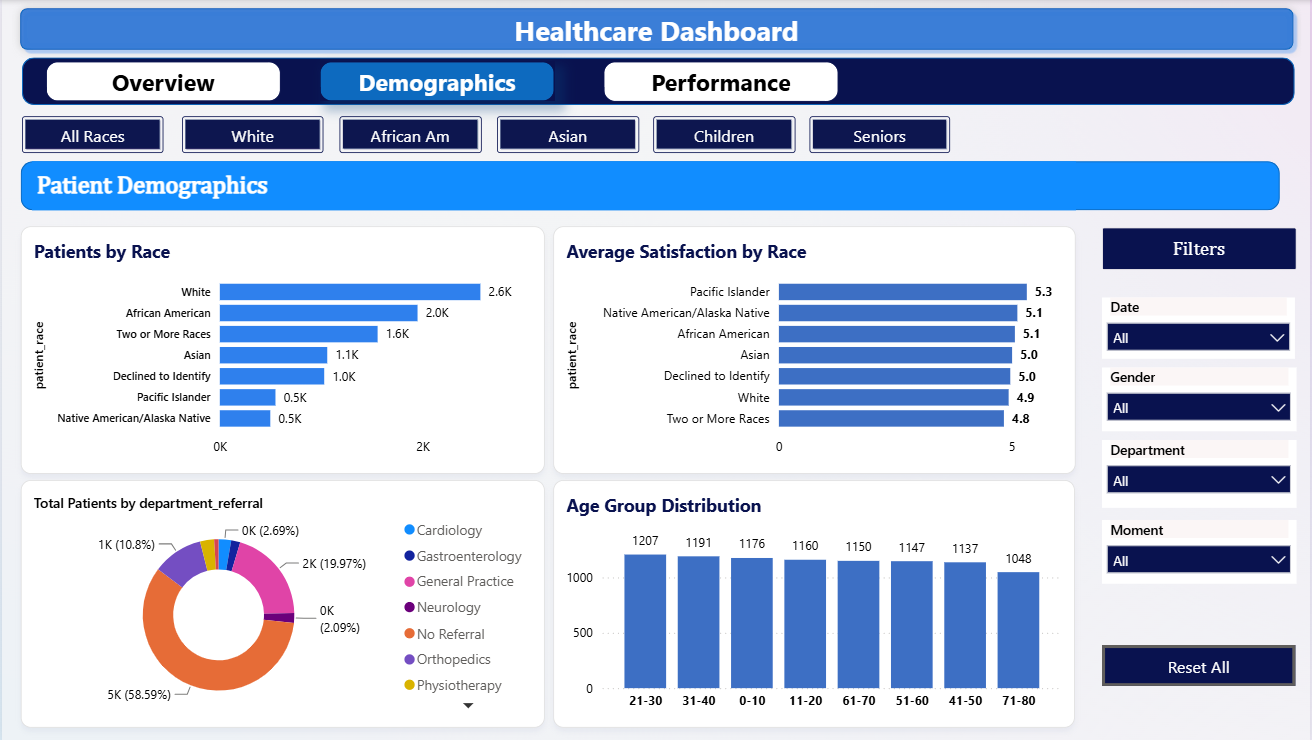

This screenshot's page, from the dashboard's own definition file:
{"tool":"powerbi","page":{"name":"Page 2 Demographics","canvas":[1280,730],"ordinal":1},"visuals":[{"type":"shape","box":[9.7,0,1261.9,56.7],"z":0},{"type":"textbox","box":[120.6,6,1038.7,47.1],"z":1000},{"type":"shape","box":[19.3,56.7,1076.1,45.8],"z":2000},{"type":"actionButton","box":[43.1,60.3,230.2,39.4],"z":3000},{"type":"actionButton","box":[310.2,60.3,230.2,39.4],"z":4000},{"type":"actionButton","box":[588.7,60.3,230.4,39.8],"z":5000},{"type":"shape","box":[1063,205.9,208.7,514.8],"z":6000},{"type":"slicer","fields":{"Values":["Sheet1.Date"]},"box":[1076.2,291.2,188.8,60],"z":7000},{"type":"slicer","fields":{"Values":["Sheet1.patient_gender"]},"box":[1076.2,360,190,62.5],"z":8000},{"type":"slicer","fields":{"Values":["Sheet1.department_referral"]},"box":[1076.2,430,190,66.2],"z":9000},{"type":"slicer","fields":{"Values":["Sheet1.Moment"]},"box":[1076.2,508.8,190,62.5],"z":10000},{"type":"actionButton","box":[1076.9,631.7,189.2,40.3],"z":11000},{"type":"textbox","box":[1076.2,222.5,190,41.2],"z":12000},{"type":"shape","box":[18.5,157.5,1232,48],"z":13000},{"type":"textbox","box":[29.5,157.5,1021.5,48],"z":14000},{"type":"clusteredBarChart","title":"Patients by Race","fields":{"Category":["Sheet1.patient_race"],"Y":["Sheet1.Total Patients"]},"box":[18.1,222,504.3,241.3],"z":15000},{"type":"clusteredColumnChart","title":" Age Group Distribution","fields":{"Category":["Sheet1.Age Bracket"],"Y":["Sheet1.Total Patients"]},"box":[539.8,470.3,510.6,242.1],"z":16000},{"type":"clusteredBarChart","title":"Average Satisfaction by Race","fields":{"Category":["Sheet1.patient_race"],"Y":["Sheet1.Avg Satisfaction"]},"box":[539.8,222.6,510.6,240.7],"z":17000},{"type":"actionButton","box":[19.3,113.4,138.7,36],"z":18000},{"type":"actionButton","box":[176.1,113.4,138.7,36],"z":19000},{"type":"actionButton","box":[329.8,113.2,139.1,35.7],"z":20000},{"type":"actionButton","box":[484.9,113.2,139.1,35.7],"z":21000},{"type":"actionButton","box":[637.5,113.2,139.1,35.7],"z":22000},{"type":"actionButton","box":[790.2,113.2,137.8,35.7],"z":23000},{"type":"donutChart","fields":{"Category":["Sheet1.department_referral"],"Y":["Sheet1.Total Patients"]},"box":[18.1,470.3,503.7,242.1],"z":24000}]}

Visuals, with their boxes in screenshot pixels (x1, y1, x2, y2), scaled from the page's 1280x730 canvas onto the 1312x740 screenshot:
shape: pyautogui.locateOnScreen(10, 0, 1303, 57)
textbox: pyautogui.locateOnScreen(124, 6, 1188, 54)
shape: pyautogui.locateOnScreen(20, 57, 1123, 104)
actionButton: pyautogui.locateOnScreen(44, 61, 280, 101)
actionButton: pyautogui.locateOnScreen(318, 61, 554, 101)
actionButton: pyautogui.locateOnScreen(603, 61, 840, 101)
shape: pyautogui.locateOnScreen(1090, 209, 1303, 731)
slicer - Sheet1.Date: pyautogui.locateOnScreen(1103, 295, 1297, 356)
slicer - Sheet1.patient_gender: pyautogui.locateOnScreen(1103, 365, 1298, 428)
slicer - Sheet1.department_referral: pyautogui.locateOnScreen(1103, 436, 1298, 503)
slicer - Sheet1.Moment: pyautogui.locateOnScreen(1103, 516, 1298, 579)
actionButton: pyautogui.locateOnScreen(1104, 640, 1298, 681)
textbox: pyautogui.locateOnScreen(1103, 226, 1298, 267)
shape: pyautogui.locateOnScreen(19, 160, 1282, 208)
textbox: pyautogui.locateOnScreen(30, 160, 1077, 208)
"Patients by Race" clusteredBarChart: pyautogui.locateOnScreen(19, 225, 535, 470)
" Age Group Distribution" clusteredColumnChart: pyautogui.locateOnScreen(553, 477, 1077, 722)
"Average Satisfaction by Race" clusteredBarChart: pyautogui.locateOnScreen(553, 226, 1077, 470)
actionButton: pyautogui.locateOnScreen(20, 115, 162, 151)
actionButton: pyautogui.locateOnScreen(181, 115, 323, 151)
actionButton: pyautogui.locateOnScreen(338, 115, 481, 151)
actionButton: pyautogui.locateOnScreen(497, 115, 640, 151)
actionButton: pyautogui.locateOnScreen(653, 115, 796, 151)
actionButton: pyautogui.locateOnScreen(810, 115, 951, 151)
donutChart - Sheet1.department_referral x Sheet1.Total Patients: pyautogui.locateOnScreen(19, 477, 535, 722)
